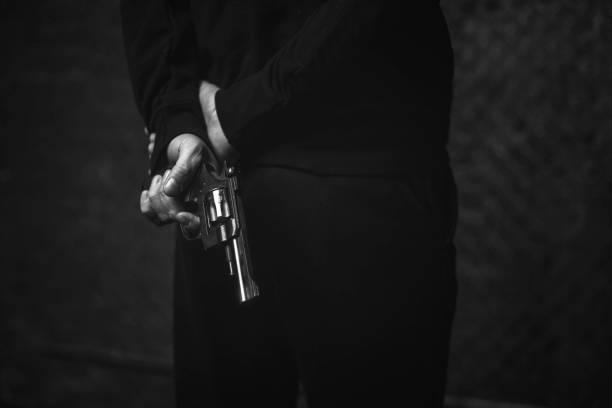weapon: (158, 154, 272, 304)
